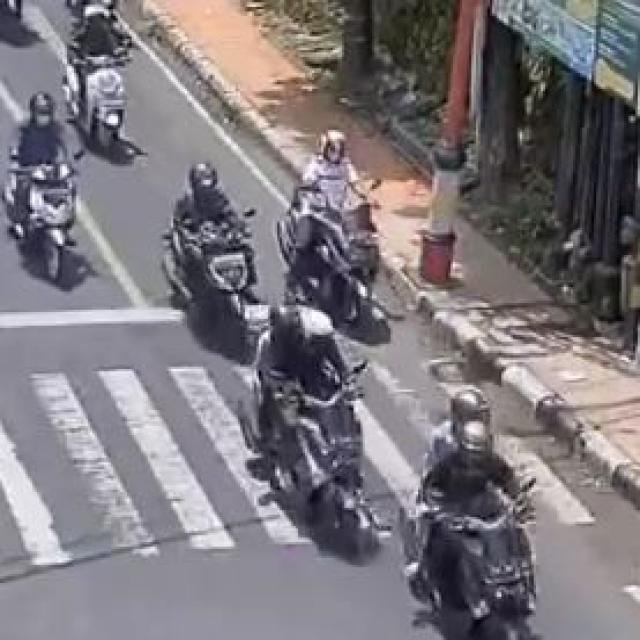motorbike: (401, 382, 551, 640), (258, 307, 384, 555), (140, 150, 259, 351), (280, 129, 421, 296), (12, 80, 70, 296), (69, 8, 137, 145)
